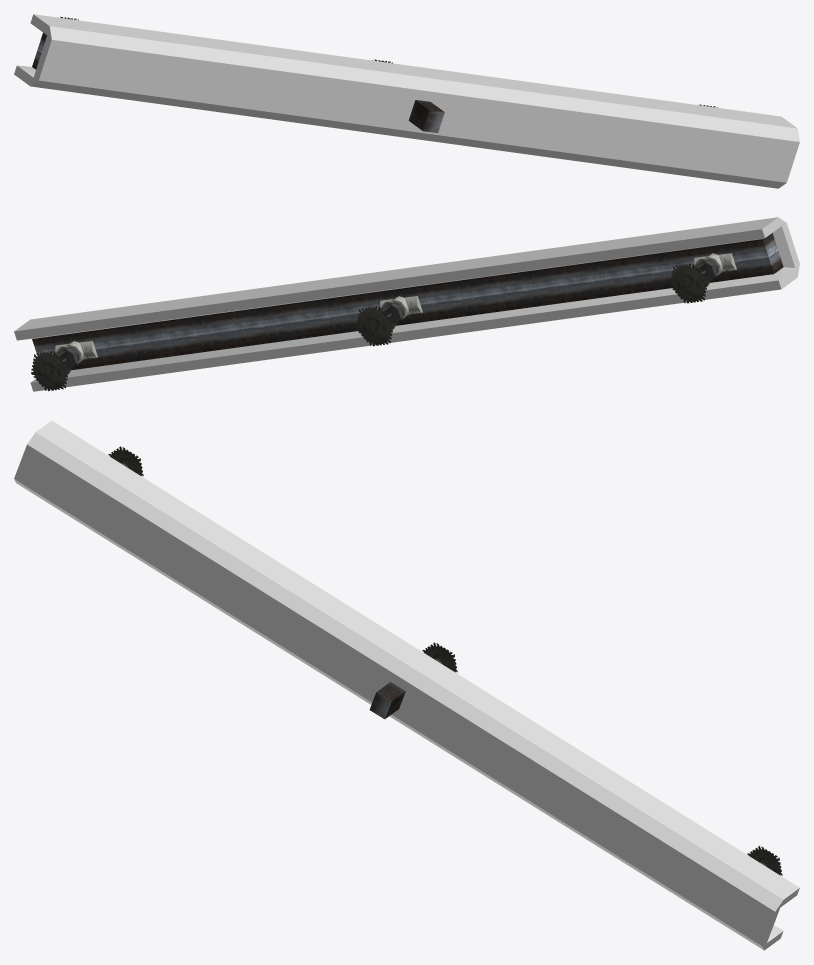
File: fxanim_mp_nuked2025_sprinkler_mod_LOD0.obj
3 views of the same model, one above another, from view 1: azimuth 30°, elevation 25°; view 2: azimuth 150°, elevation 25°; view 3: azimuth 330°, elevation 25° (orthographic).
Visible parts, largest first — view 1: ap_chrome, railroadtrack_top; view 2: ap_chrome, railroadtrack_top, mtl_p6_pipes_garage_sprinkler_top, mtl_p6_pipes_garage, mtl_p6_pipes_garage_details; view 3: ap_chrome, mtl_p6_pipes_garage_sprinkler_top.
Part boxes in pixels (x1,y1,x2,y2): ap_chrome: (14, 14, 799, 188); railroadtrack_top: (32, 32, 444, 133); ap_chrome: (14, 217, 799, 391); railroadtrack_top: (32, 233, 783, 370); mtl_p6_pipes_garage_sprinkler_top: (31, 263, 708, 391); mtl_p6_pipes_garage: (55, 253, 736, 363); mtl_p6_pipes_garage_details: (47, 259, 718, 374); ap_chrome: (14, 420, 799, 950); mtl_p6_pipes_garage_sprinkler_top: (108, 446, 782, 875).
Size of the model in its own units: 208 by 88.25 by 28.1.
